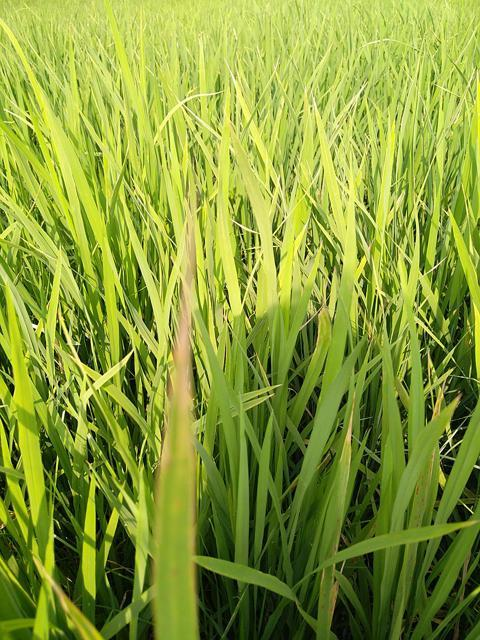Leaf Blight: (154, 214, 201, 639)
